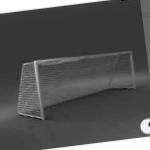goals: (17, 49, 137, 122)
